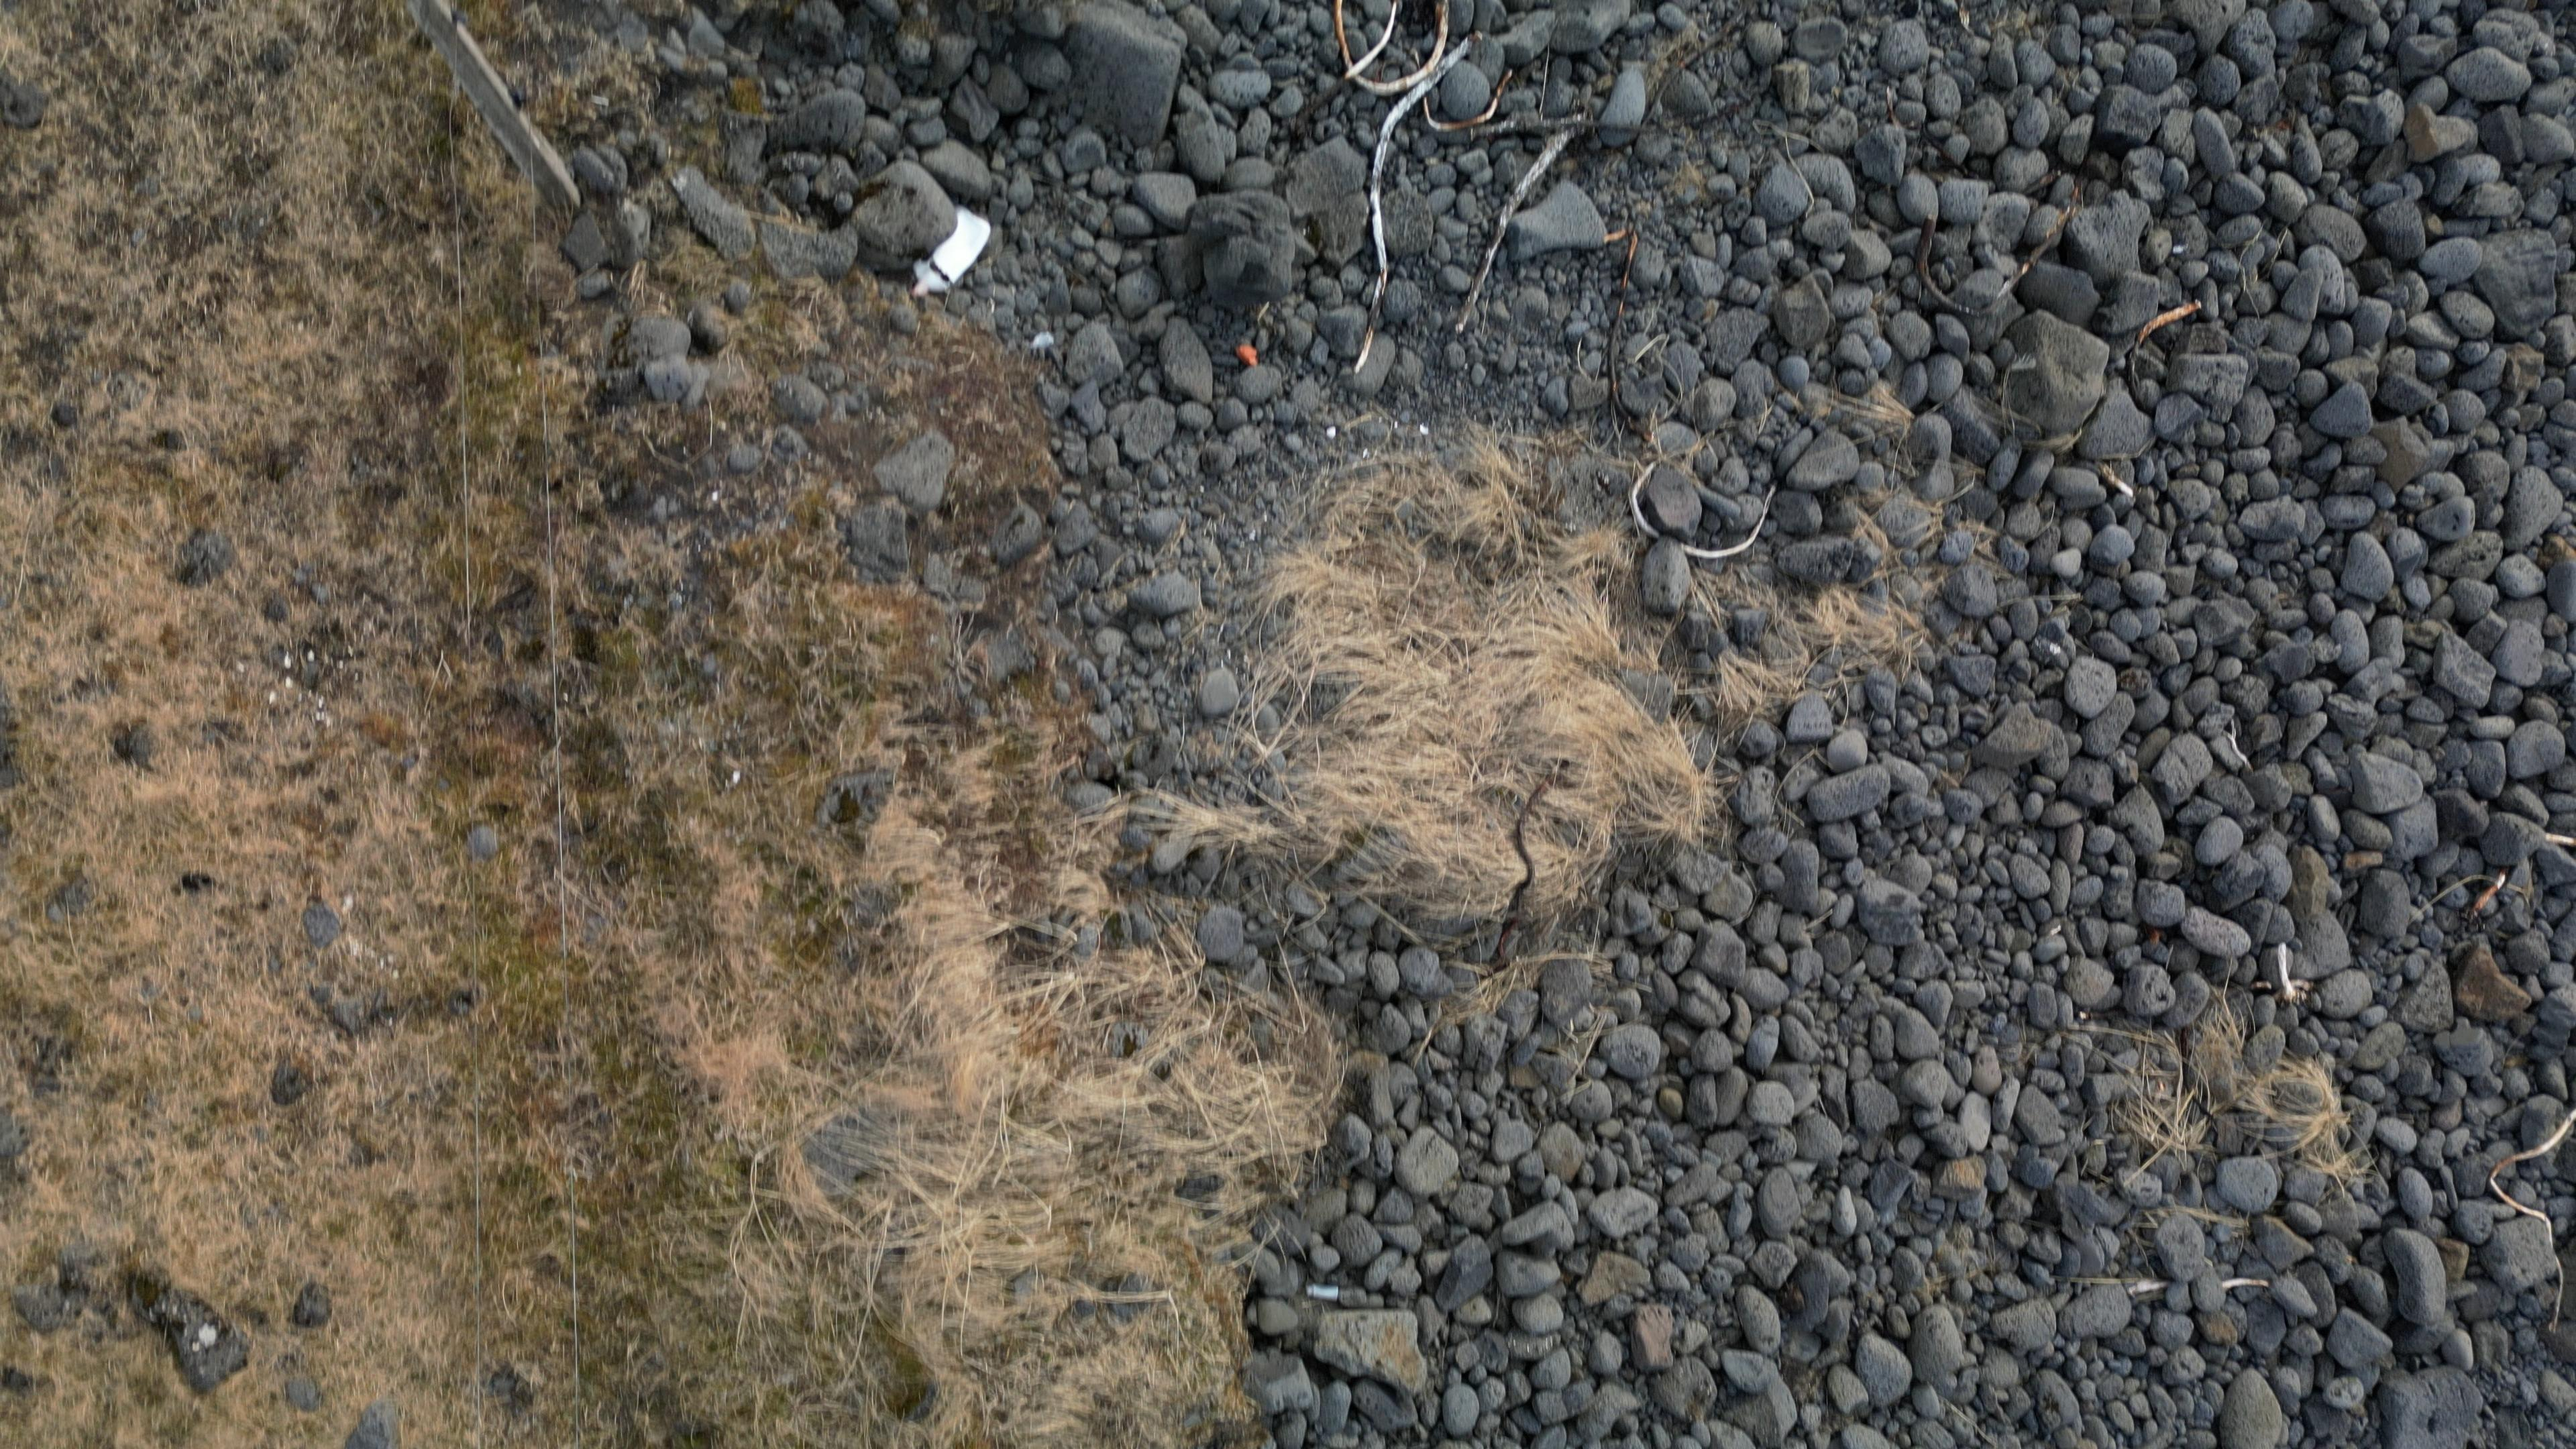trash: (911, 207, 991, 297)
